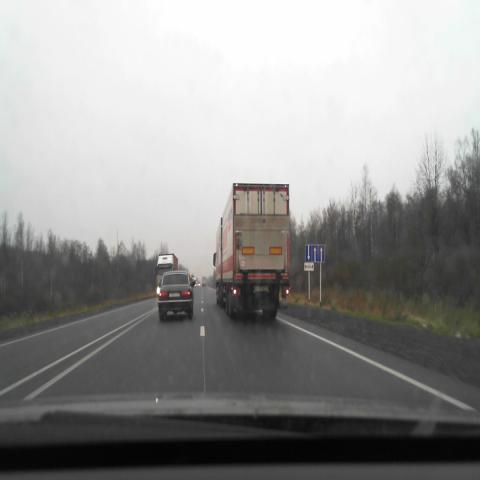5_15_7: (305, 244, 325, 262)
